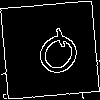Q: (25, 25, 87, 88)
